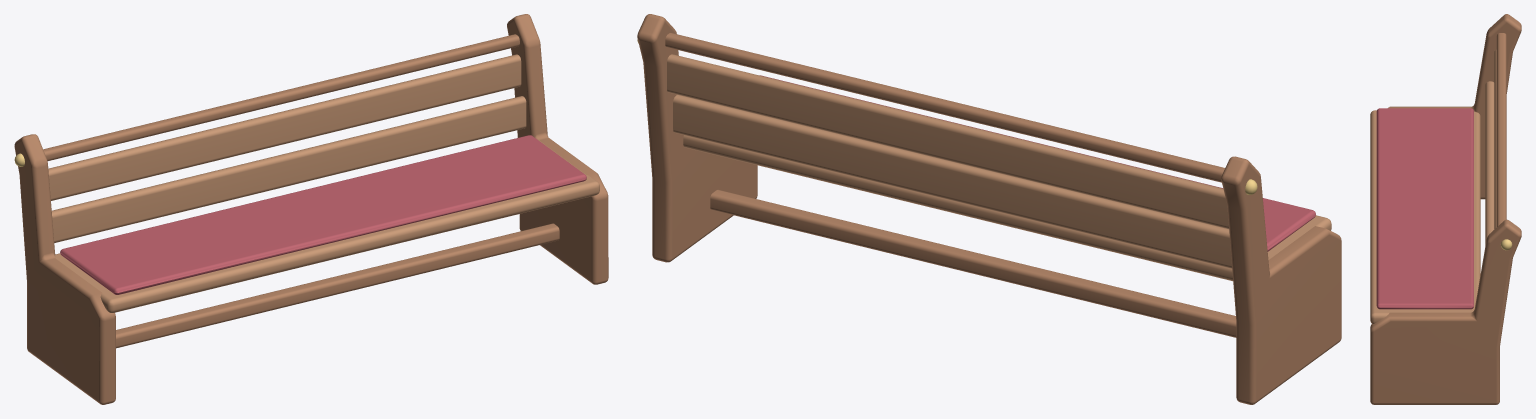
The model's file is pew.glb.
The picture shows the model from 3 angles, left to right: view 1: azimuth 30°, elevation 25°; view 2: azimuth 150°, elevation 25°; view 3: azimuth 270°, elevation 25°; orthographic projection. The views are drawn at different scales.
Parts seen in each view (by area): view 1: pad, back0, back1, end-1, seat, stretcher, end1, rail; view 2: back1, back0, end-1, stretcher, end1, rail, seat, pad; view 3: pad, end1, seat, end-1, rail, back0, back1.
Part boxes in pixels (x1,y1,x2,y2): pad: [60, 135, 586, 294]; back0: [51, 96, 526, 242]; back1: [48, 54, 521, 200]; end-1: [14, 134, 115, 404]; seat: [55, 140, 599, 312]; stretcher: [116, 223, 559, 348]; end1: [507, 14, 608, 284]; rail: [43, 34, 519, 160]; back1: [667, 54, 1228, 229]; back0: [673, 95, 1232, 268]; end-1: [1221, 156, 1341, 404]; stretcher: [710, 189, 1236, 337]; end1: [637, 14, 757, 262]; rail: [665, 33, 1225, 182]; seat: [683, 135, 1331, 281]; pad: [760, 75, 1315, 251]; pad: [1376, 108, 1473, 309]; end1: [1370, 219, 1521, 404]; seat: [1370, 110, 1480, 323]; end-1: [1388, 14, 1521, 199]; rail: [1496, 33, 1506, 226]; back0: [1485, 81, 1494, 245]; back1: [1494, 49, 1496, 229].
Bounding box in the file's own units: 1.59 × 0.6151 × 0.4668.
